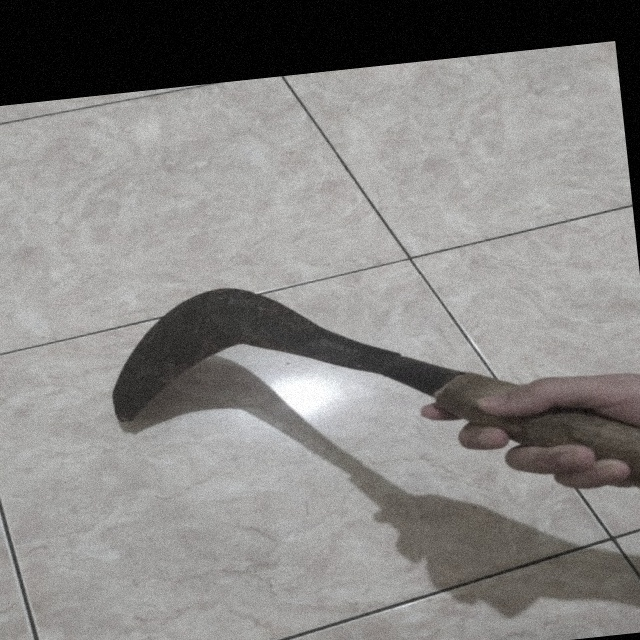Sharp-Object: (43, 240, 640, 574)
